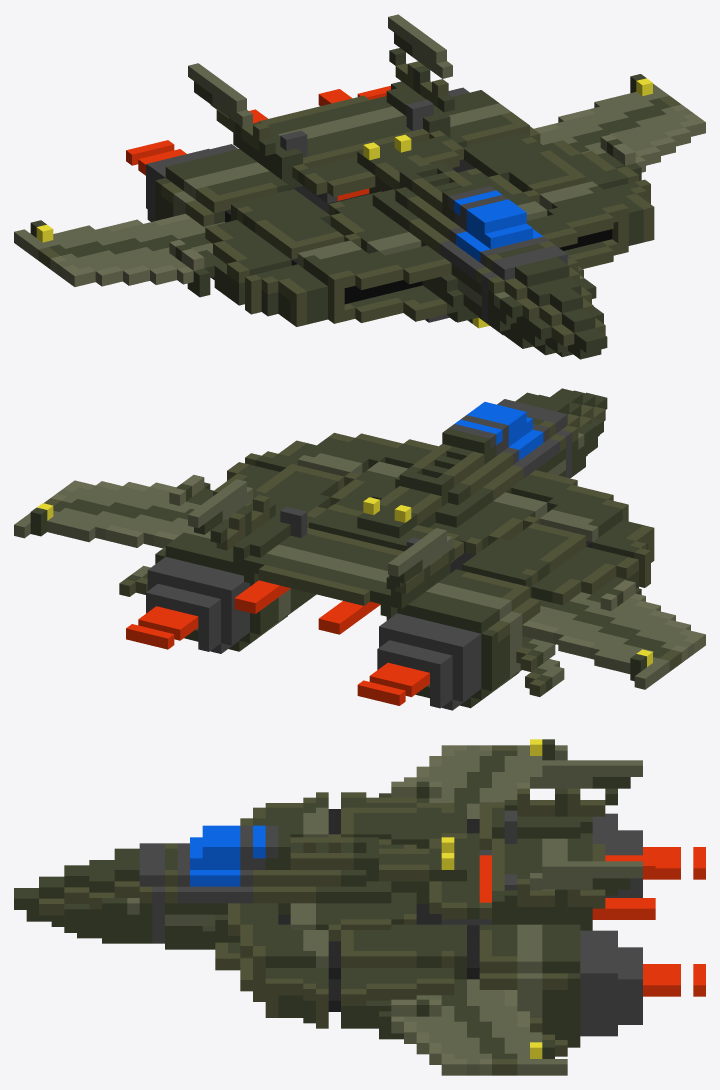
Rendered from CamoStellarJet.obj.
The picture shows the model from 3 angles, top to bottom: view 1: azimuth 30°, elevation 25°; view 2: azimuth 150°, elevation 25°; view 3: azimuth 270°, elevation 25°; orthographic projection. The views are drawn at different scales.
Bounding box in the file's own units: 6 × 1.4 × 5.5.
1 material, 1 textured.
